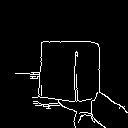cube: (29, 34, 107, 102)
